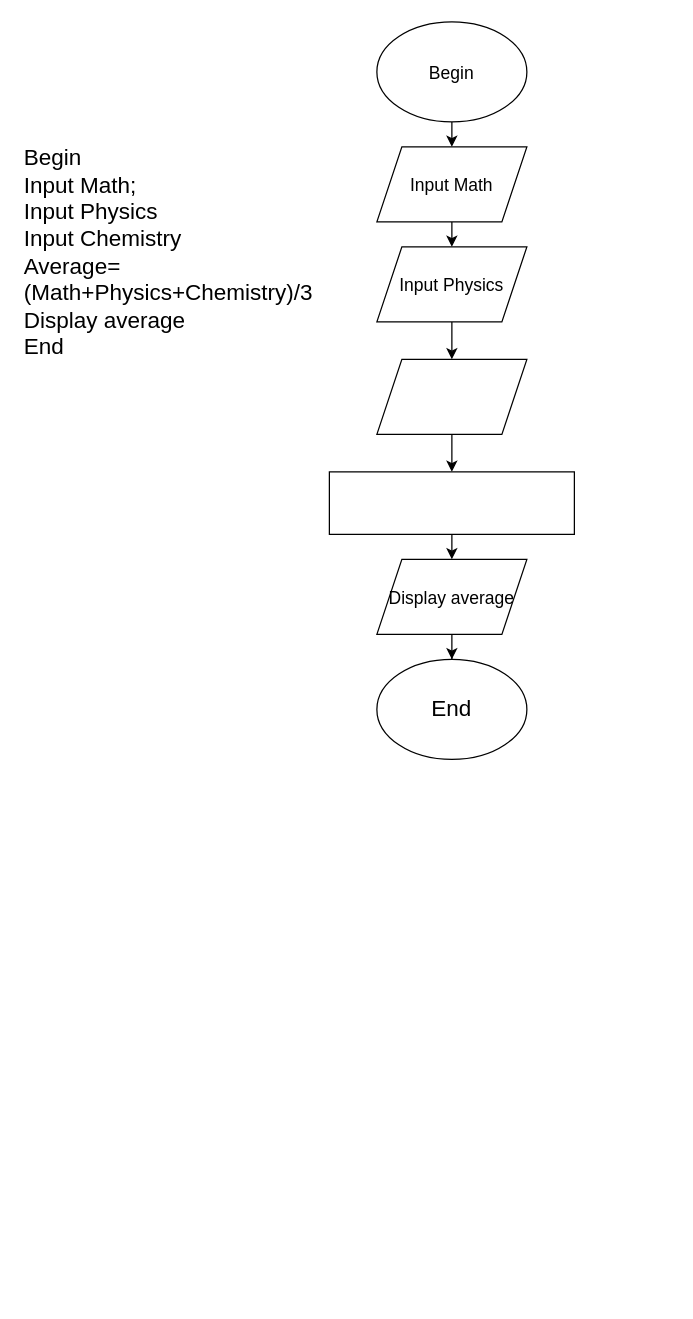
Image size: 693x1319. Some labels were removed from this diagram. The box of each missing label's shape, as (x1, y1, x2, y2) in pixels:
A verger =Math+Physics+Chemistry)/3: (328, 471, 574, 534)
Input Chemistry: (376, 358, 527, 434)
